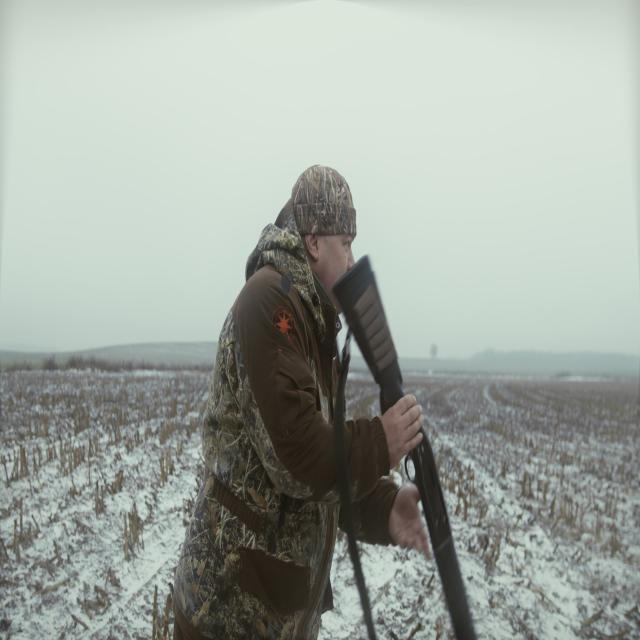poacher: (234, 176, 400, 628)
weapon: (290, 180, 326, 300)
